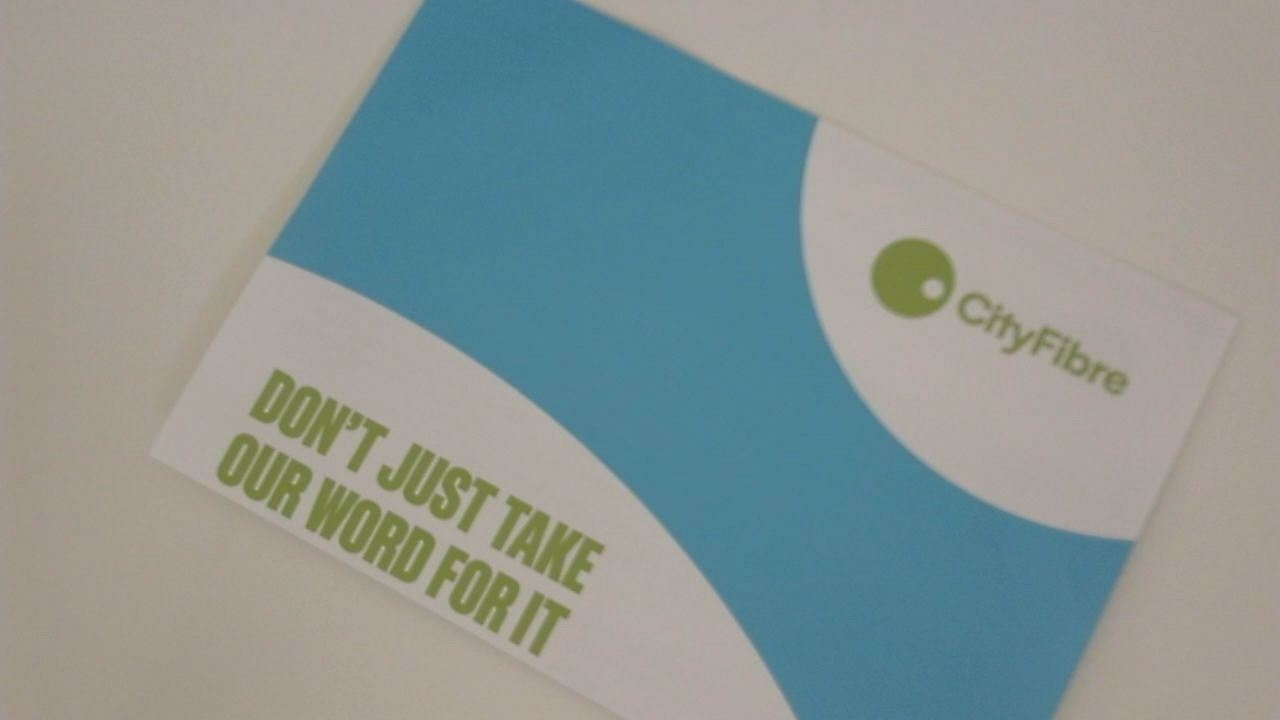Mixed Paper: (163, 9, 1248, 720)
